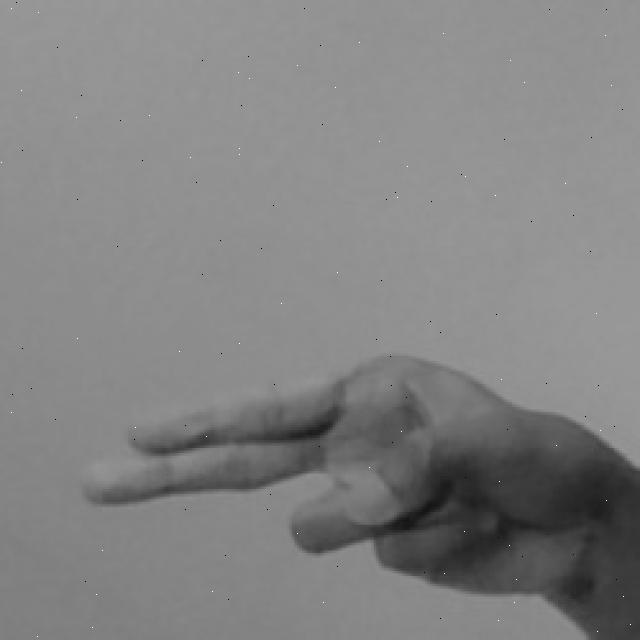H: (82, 345, 631, 623)
